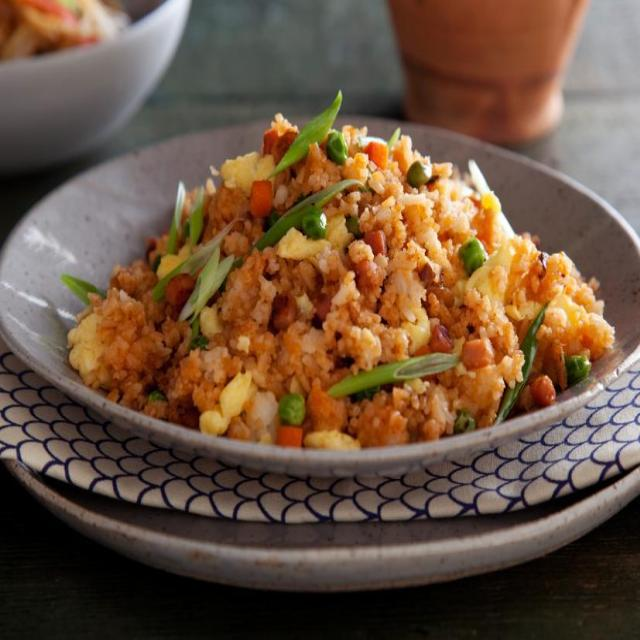Nasi Goreng: (64, 92, 616, 450)
